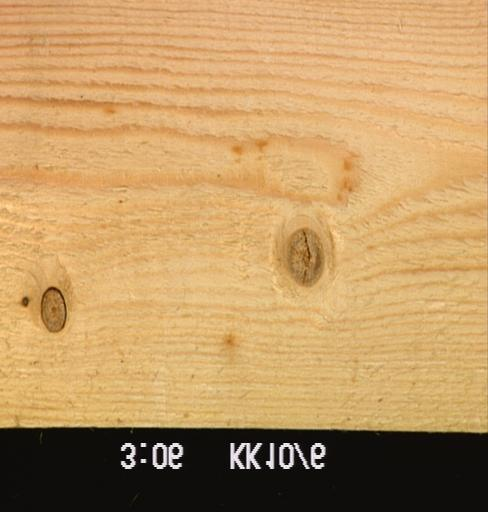dry_knot: (39, 285, 67, 333), (20, 295, 29, 307)
sound_knot: (281, 226, 325, 289)
